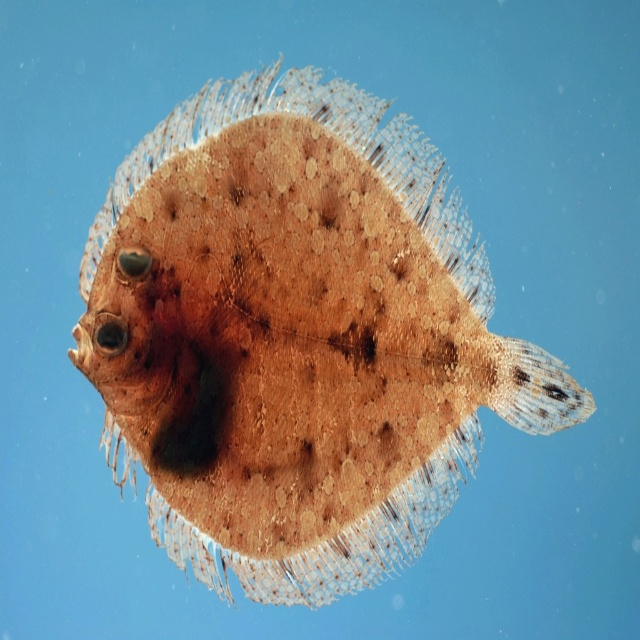Fish: (72, 42, 584, 633)
